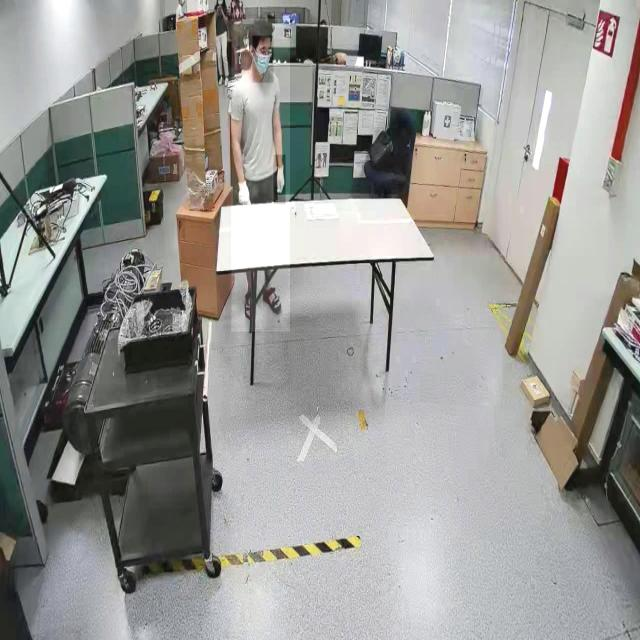face_mask: (252, 36, 274, 84)
hand_glove: (235, 173, 253, 207), (273, 155, 285, 205)
head_nohelmet: (249, 16, 275, 36)
person: (231, 19, 290, 332)
